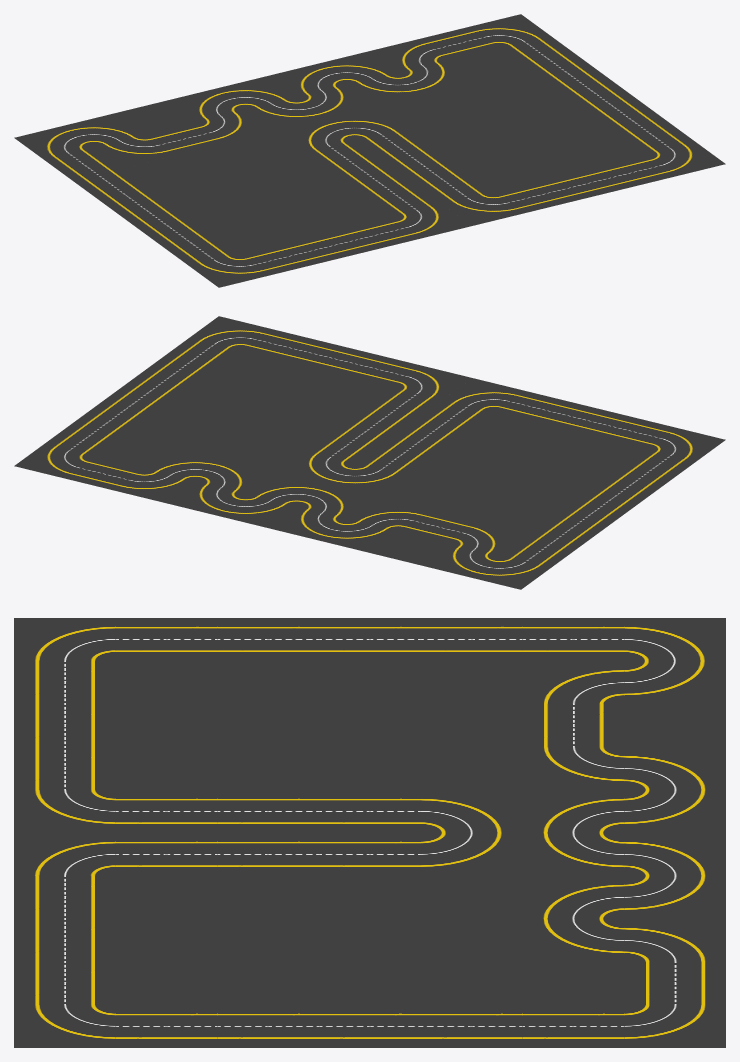
The model's file is ground.dae.
3 renders of one model, top to bottom at view 1: azimuth 30°, elevation 25°; view 2: azimuth 150°, elevation 25°; view 3: azimuth 270°, elevation 25°, orthographic. The views are drawn at different scales.
Visible parts, largest first — view 1: Plane; view 2: Plane; view 3: Plane.
Part boxes in pixels (x1,y1,x2,y2): Plane: (14, 14, 725, 287); Plane: (14, 316, 725, 589); Plane: (14, 618, 725, 1047).
Bounding box in the file's own units: 40 × 28 × 0.
1 material, 1 textured.
